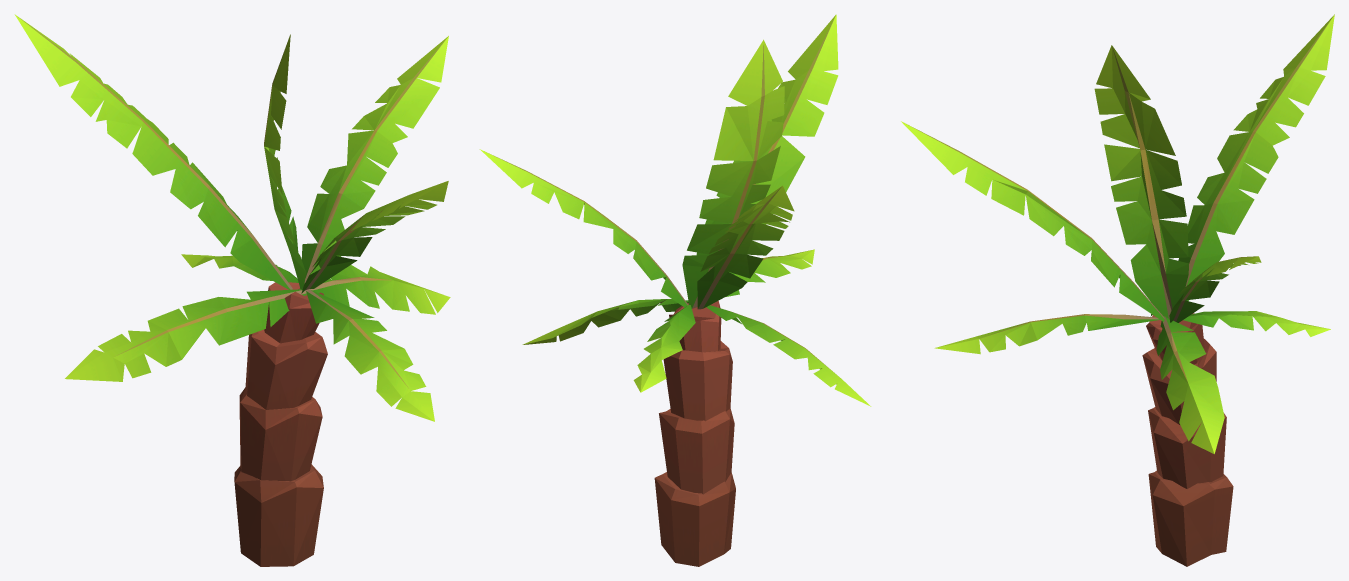
3 renders of one model, left to right at view 1: azimuth 30°, elevation 25°; view 2: azimuth 150°, elevation 25°; view 3: azimuth 270°, elevation 25°, orthographic. The views are drawn at different scales.
Parts seen in each view (by area): view 1: Palm3_Small; view 2: Palm3_Small; view 3: Palm3_Small.
Part boxes in pixels (x1,y1,x2,y2): Palm3_Small: (14,14,450,566); Palm3_Small: (479,14,871,566); Palm3_Small: (901,14,1334,566).
Bounding box in the file's own units: 233 × 300 × 240.
Materials: 1 (1 with a texture image).
